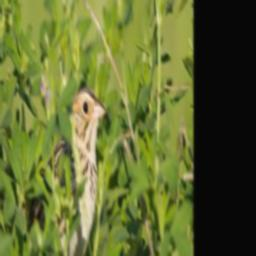Sparrow: (22, 84, 108, 256)
